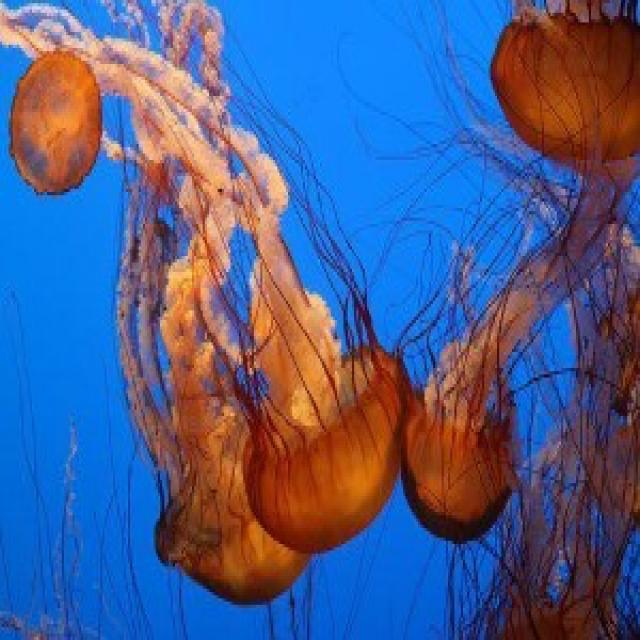Jellyfish: (238, 225, 408, 554), (111, 271, 276, 607), (404, 255, 528, 539), (485, 3, 640, 202), (4, 0, 107, 208)
